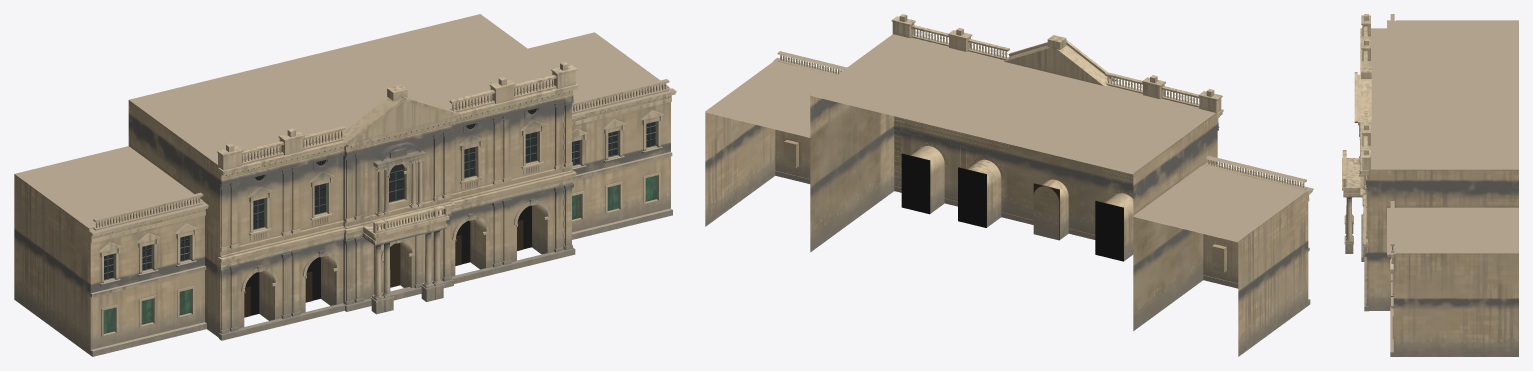
The model's file is library-CIKbtC8p.glb.
3 views of the same model, side by side, from view 1: azimuth 30°, elevation 25°; view 2: azimuth 150°, elevation 25°; view 3: azimuth 270°, elevation 25° (orthographic). The views are drawn at different scales.
Parts seen in each view (by area): view 1: palace, palace_roof, palace_flat; view 2: palace, palace_roof, palace_flat; view 3: palace_roof, palace.
Boxes of the visible parts, left/top/right/bottom form: palace: left=14, top=62, right=676, bottom=356; palace_roof: left=15, top=14, right=675, bottom=351; palace_flat: left=104, top=108, right=655, bottom=317; palace: left=705, top=14, right=1313, bottom=356; palace_roof: left=705, top=34, right=1313, bottom=300; palace_flat: left=901, top=153, right=1123, bottom=261; palace_roof: left=1368, top=14, right=1518, bottom=352; palace: left=1342, top=14, right=1518, bottom=356.
Bounding box in the file's own units: 66.4 × 22.6 × 21.15.
Materials: 6 (1 with a texture image).
